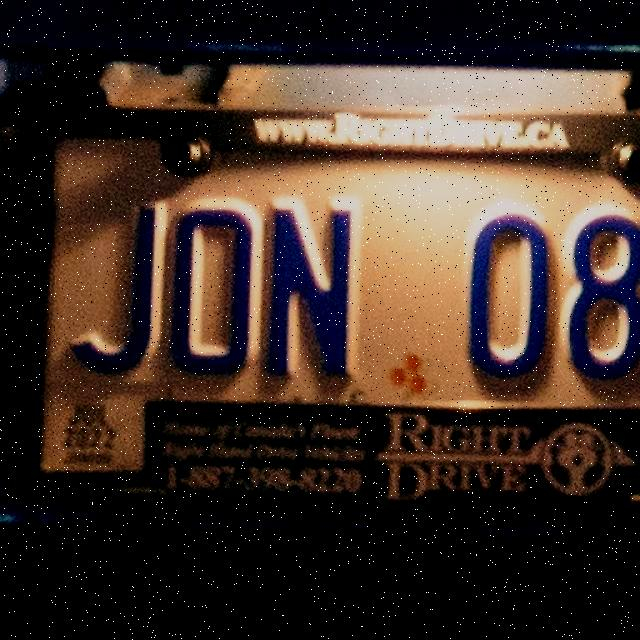licenseplate: (24, 101, 640, 505)
